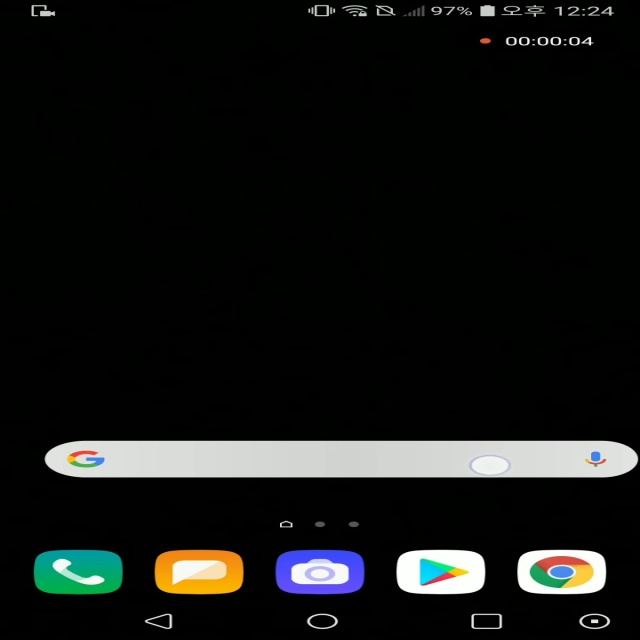Cursor: (469, 455, 513, 477)
